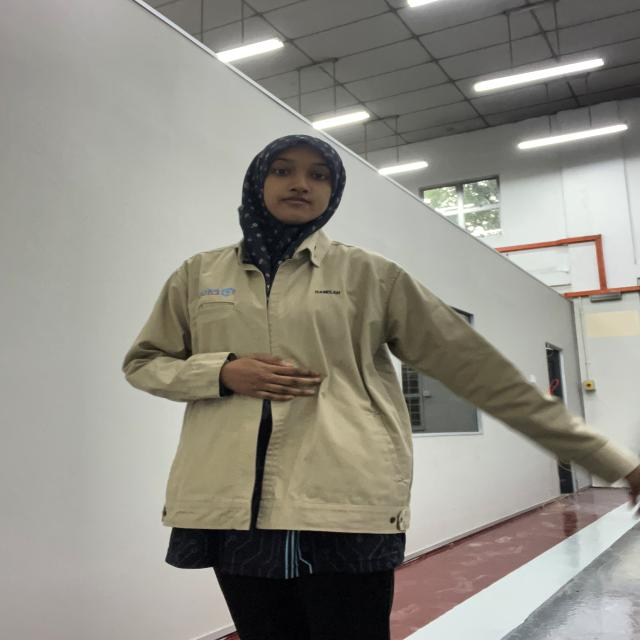person_with_labcoat: (123, 135, 640, 640)
